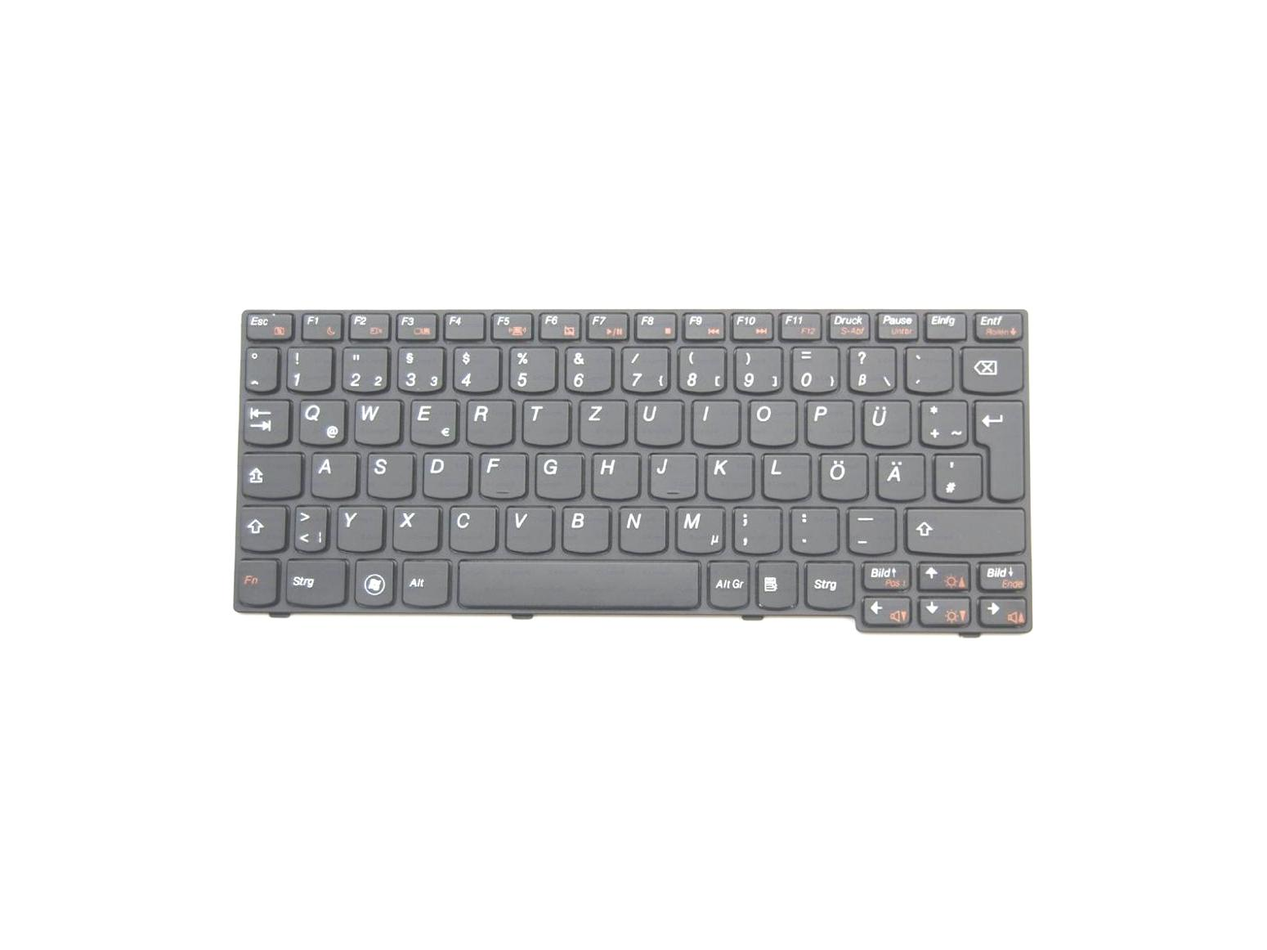0: (786, 343, 838, 392)
1: (284, 343, 332, 392)
2: (338, 343, 387, 391)
3: (393, 343, 443, 391)
4: (450, 343, 499, 391)
5: (504, 343, 554, 391)
6: (561, 343, 611, 392)
7: (618, 343, 668, 392)
8: (674, 343, 724, 391)
9: (730, 343, 781, 392)
a: (308, 449, 356, 496)
accent: (902, 343, 951, 392)
ae: (872, 449, 923, 499)
alt-left: (398, 556, 447, 606)
altgr-right: (705, 558, 749, 607)
b: (557, 503, 609, 552)
c: (445, 503, 496, 551)
caret: (242, 344, 277, 392)
comma: (729, 504, 780, 553)
d: (419, 449, 468, 498)
del: (957, 343, 1023, 392)
e: (406, 396, 456, 444)
enter: (971, 395, 1023, 500)
f: (477, 450, 526, 497)
g: (532, 450, 581, 497)
h: (589, 450, 638, 498)
hash: (930, 450, 979, 499)
i: (688, 396, 738, 445)
j: (645, 450, 695, 498)
k: (702, 450, 752, 498)
keyboard: (226, 301, 1035, 633)
l: (759, 450, 808, 499)
less: (291, 501, 327, 550)
m: (672, 503, 723, 553)
minus: (843, 504, 894, 553)
n: (616, 503, 666, 552)
o: (745, 396, 795, 446)
oe: (815, 449, 866, 499)
p: (802, 396, 853, 445)
plus: (916, 396, 966, 445)
point: (786, 504, 837, 552)
q: (295, 396, 345, 445)
r: (463, 396, 513, 445)
s: (363, 450, 412, 497)
shift-left: (235, 503, 284, 550)
shift-lock: (239, 449, 300, 497)
shift-right: (901, 503, 1023, 553)
space: (455, 557, 701, 607)
ss: (844, 343, 894, 392)
strg-left: (280, 554, 346, 605)
strg-right: (801, 558, 853, 607)
t: (519, 396, 569, 445)
tab: (241, 396, 289, 444)
u: (632, 397, 682, 445)
ue: (858, 396, 909, 445)
v: (503, 502, 552, 551)
w: (351, 395, 400, 444)
x: (389, 502, 438, 551)
y: (334, 503, 383, 550)
z: (575, 396, 625, 444)
